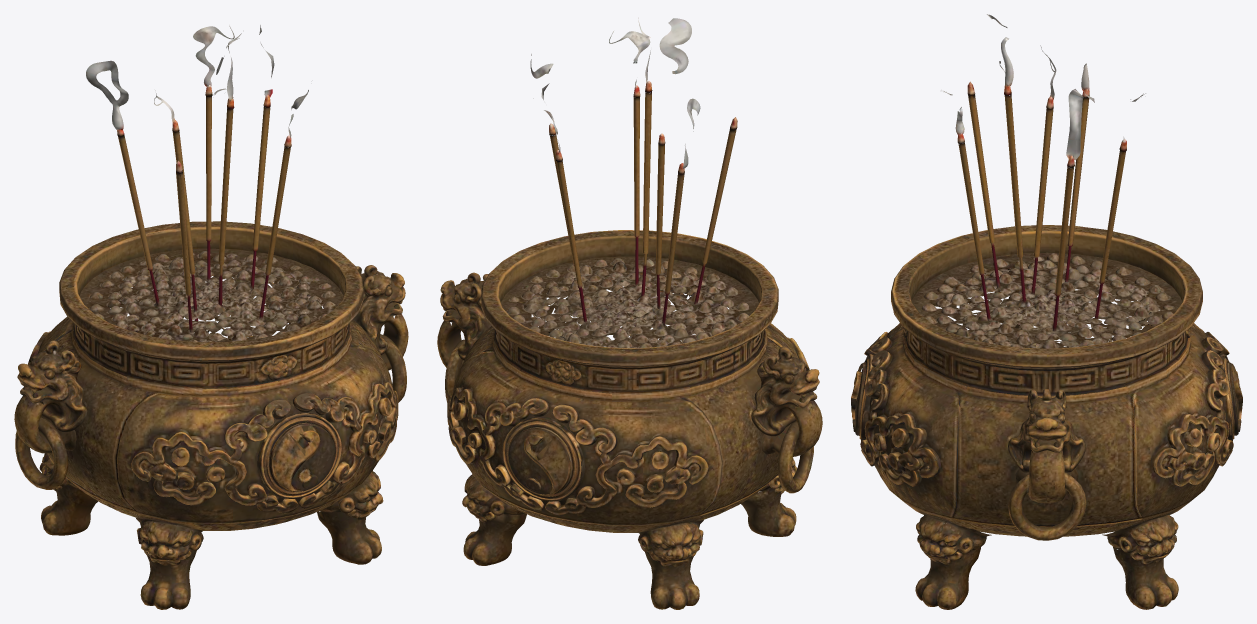
File: burner.glb
The picture shows the model from 3 angles, left to right: view 1: azimuth 30°, elevation 25°; view 2: azimuth 150°, elevation 25°; view 3: azimuth 270°, elevation 25°; orthographic projection. The views are drawn at different scales.
Visible parts, largest first — view 1: tripo_19f91c0c_9664_475c_aaa6_90e5bf5fb51d; view 2: tripo_19f91c0c_9664_475c_aaa6_90e5bf5fb51d; view 3: tripo_19f91c0c_9664_475c_aaa6_90e5bf5fb51d.
Part boxes in pixels (x1,y1,x2,y2): tripo_19f91c0c_9664_475c_aaa6_90e5bf5fb51d: [14, 25, 408, 609]; tripo_19f91c0c_9664_475c_aaa6_90e5bf5fb51d: [437, 17, 822, 609]; tripo_19f91c0c_9664_475c_aaa6_90e5bf5fb51d: [851, 14, 1242, 609].
Bounding box in the file's own units: 0.77 × 0.9995 × 0.6606.
Materials: 1 (1 with a texture image).
